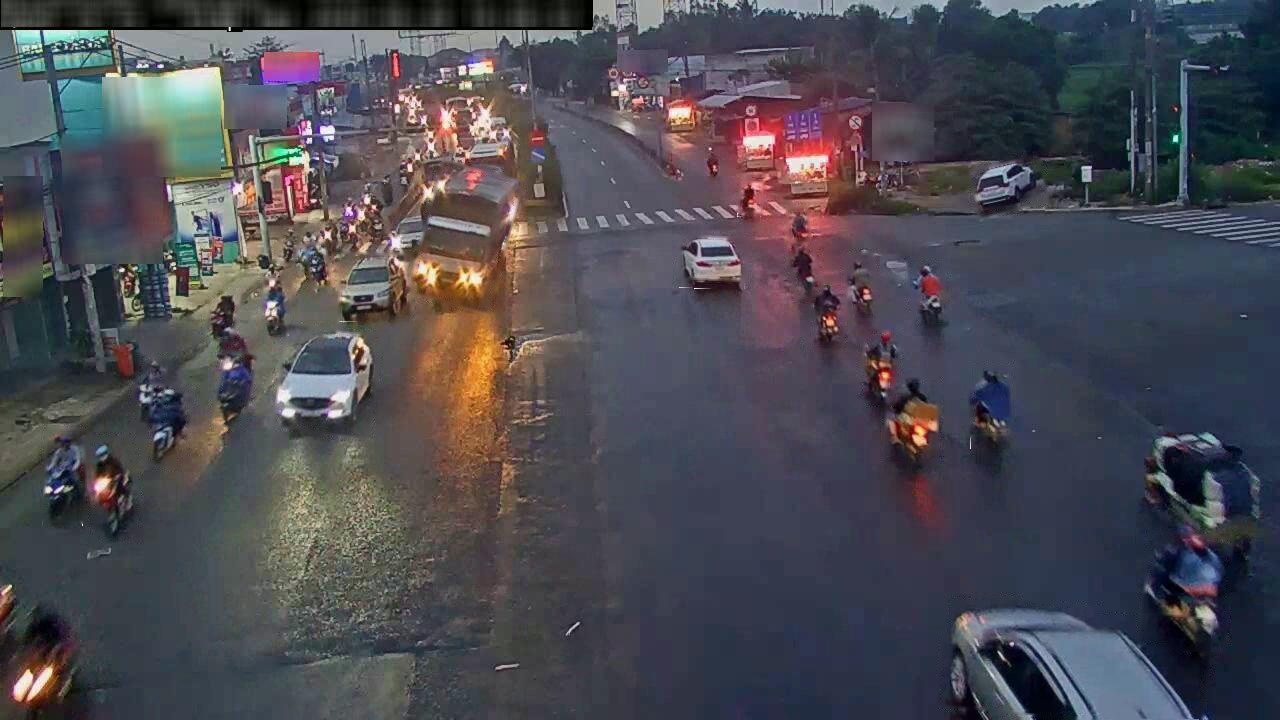Car: (948, 609, 1195, 719), (275, 331, 373, 433), (339, 255, 407, 320), (682, 236, 741, 287), (974, 163, 1036, 211), (390, 217, 423, 255), (0, 584, 16, 649), (666, 101, 695, 132)
Motorcycle: (8, 606, 79, 719), (151, 406, 185, 461), (307, 253, 327, 286), (706, 155, 719, 177)
Motorcyclist: (1144, 526, 1223, 659), (886, 379, 939, 468), (968, 370, 1012, 457), (93, 444, 133, 537), (43, 435, 86, 519), (217, 329, 253, 423), (864, 330, 897, 404), (137, 361, 166, 420), (915, 265, 943, 324), (814, 286, 840, 342), (848, 260, 873, 315), (791, 240, 815, 295), (264, 275, 285, 335), (210, 294, 235, 341), (739, 184, 758, 218), (281, 227, 297, 264), (791, 212, 808, 244)
Pedestrian: (1209, 445, 1260, 518), (1144, 454, 1171, 510)
Traffic light: (529, 119, 546, 164), (1169, 102, 1183, 145)
Truck: (413, 166, 518, 298)
